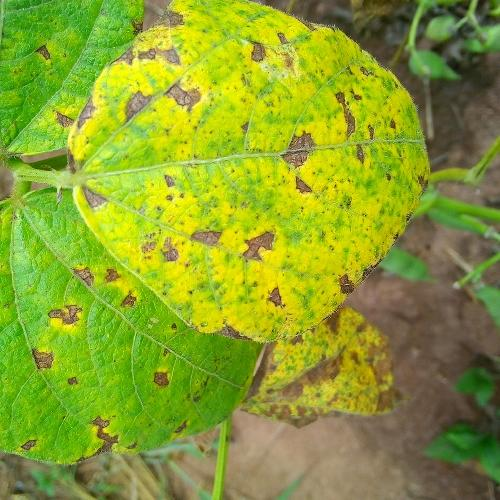hawar: (66, 1, 438, 347), (0, 190, 258, 466)
